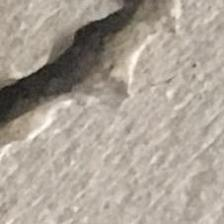Crack: (1, 0, 203, 171)
